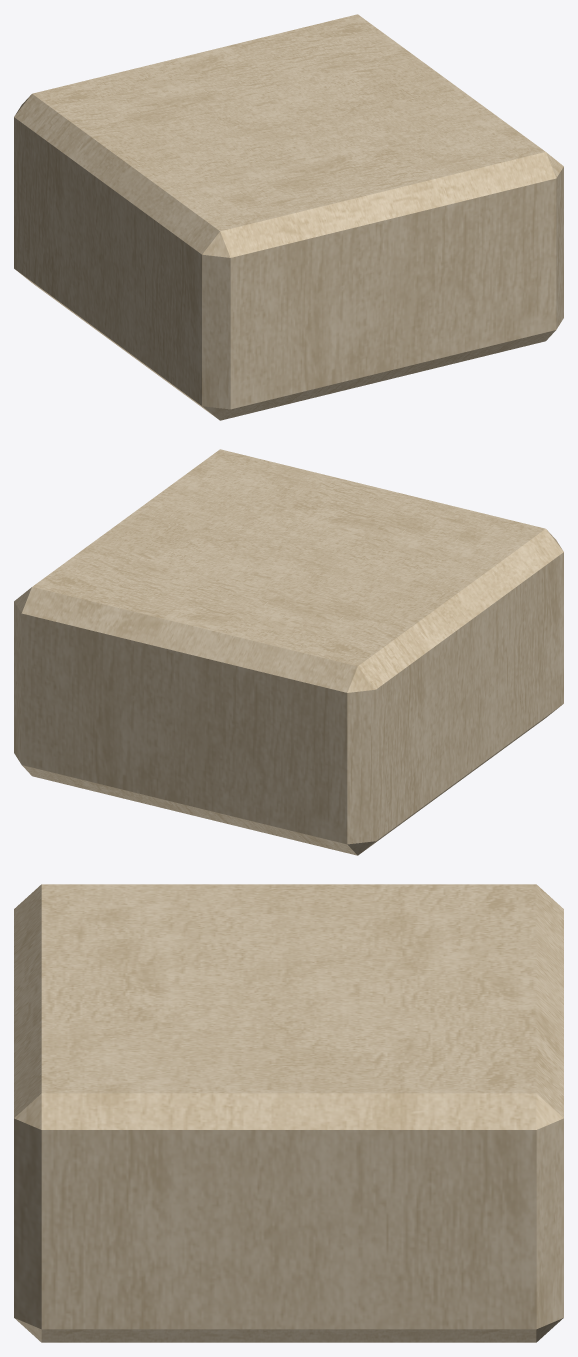
The model's file is half_block.glb.
The picture shows the model from 3 angles, top to bottom: view 1: azimuth 30°, elevation 25°; view 2: azimuth 150°, elevation 25°; view 3: azimuth 270°, elevation 25°; orthographic projection. The views are drawn at different scales.
Visible parts, largest first — view 1: half_block; view 2: half_block; view 3: half_block.
Boxes of the visible parts, left/top/right/bottom form: half_block: left=14, top=14, right=563, bottom=420; half_block: left=14, top=449, right=563, bottom=855; half_block: left=14, top=884, right=563, bottom=1342.
Size of the model in its own units: 2 by 1 by 2.
Materials: 1 (1 with a texture image).
